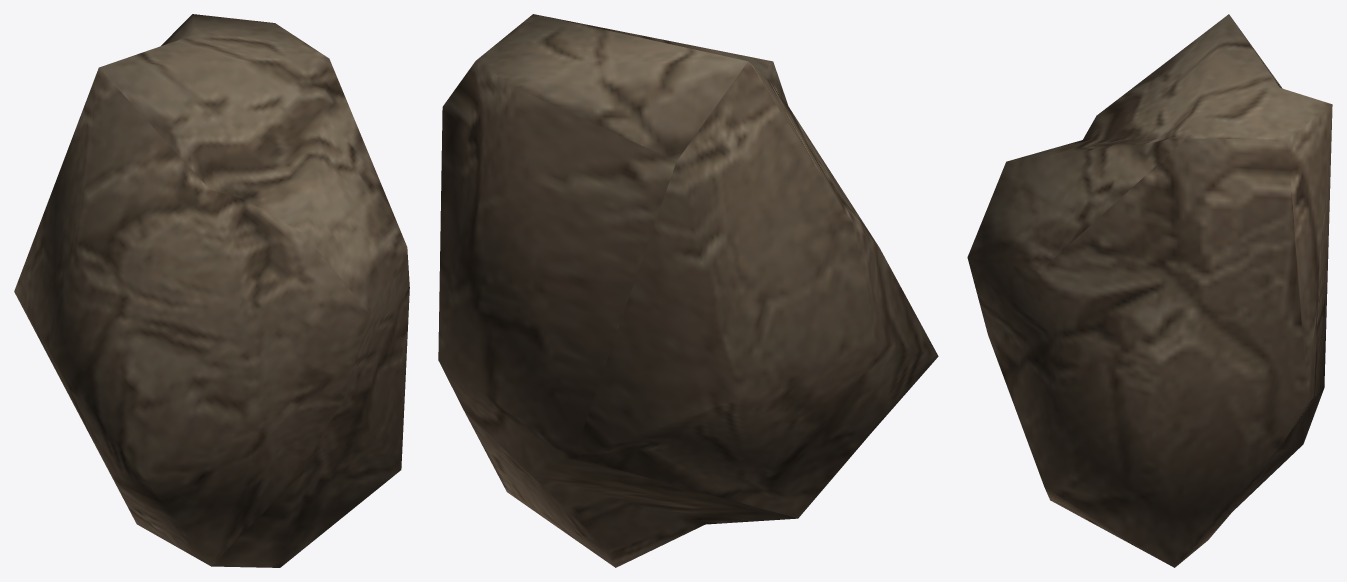
Rendered from shanti02.FBX.
3 renders of one model, left to right at view 1: azimuth 30°, elevation 25°; view 2: azimuth 150°, elevation 25°; view 3: azimuth 270°, elevation 25°, orthographic. The views are drawn at different scales.
Parts seen in each view (by area): view 1: Group29197; view 2: Group29197; view 3: Group29197.
Boxes of the visible parts, left/top/right/bottom form: Group29197: left=14, top=14, right=409, bottom=567; Group29197: left=438, top=14, right=938, bottom=567; Group29197: left=967, top=14, right=1332, bottom=567.
Size of the model in its own units: 59.42 by 77.49 by 54.98.
